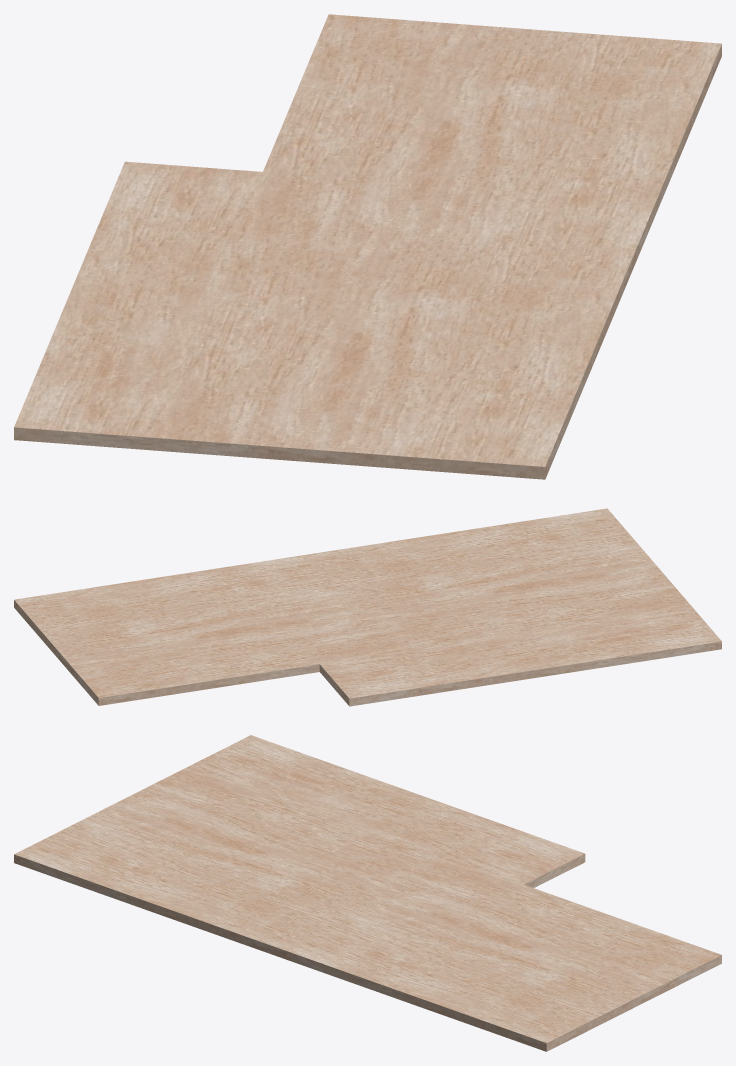
3 renders of one model, top to bottom at view 1: azimuth 30°, elevation 25°; view 2: azimuth 150°, elevation 25°; view 3: azimuth 270°, elevation 25°, orthographic. The views are drawn at different scales.
Parts seen in each view (by area): view 1: Cube037_Wood_15001_0; view 2: Cube037_Wood_15001_0; view 3: Cube037_Wood_15001_0.
Boxes of the visible parts, <box> form: Cube037_Wood_15001_0: <box>14,14,721,479</box>; Cube037_Wood_15001_0: <box>14,508,721,706</box>; Cube037_Wood_15001_0: <box>14,735,721,1051</box>.
Bounding box in the file's own units: 15.23 × 0.2 × 14.79.
Materials: 1 (1 with a texture image).
